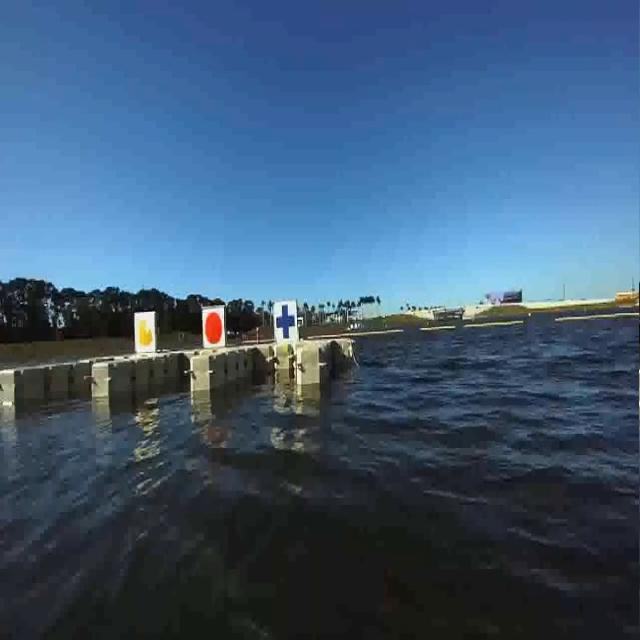blue-cross: (271, 301, 302, 353)
red-dot: (199, 300, 229, 352)
yellow-duck: (134, 316, 153, 349)
